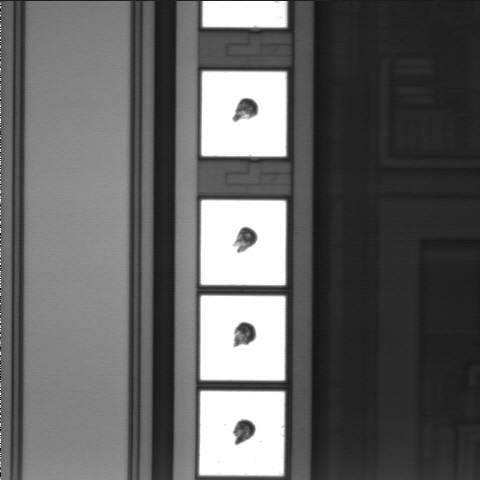pad: (199, 391, 285, 476), (201, 71, 286, 156), (201, 200, 286, 285), (200, 296, 285, 380)
